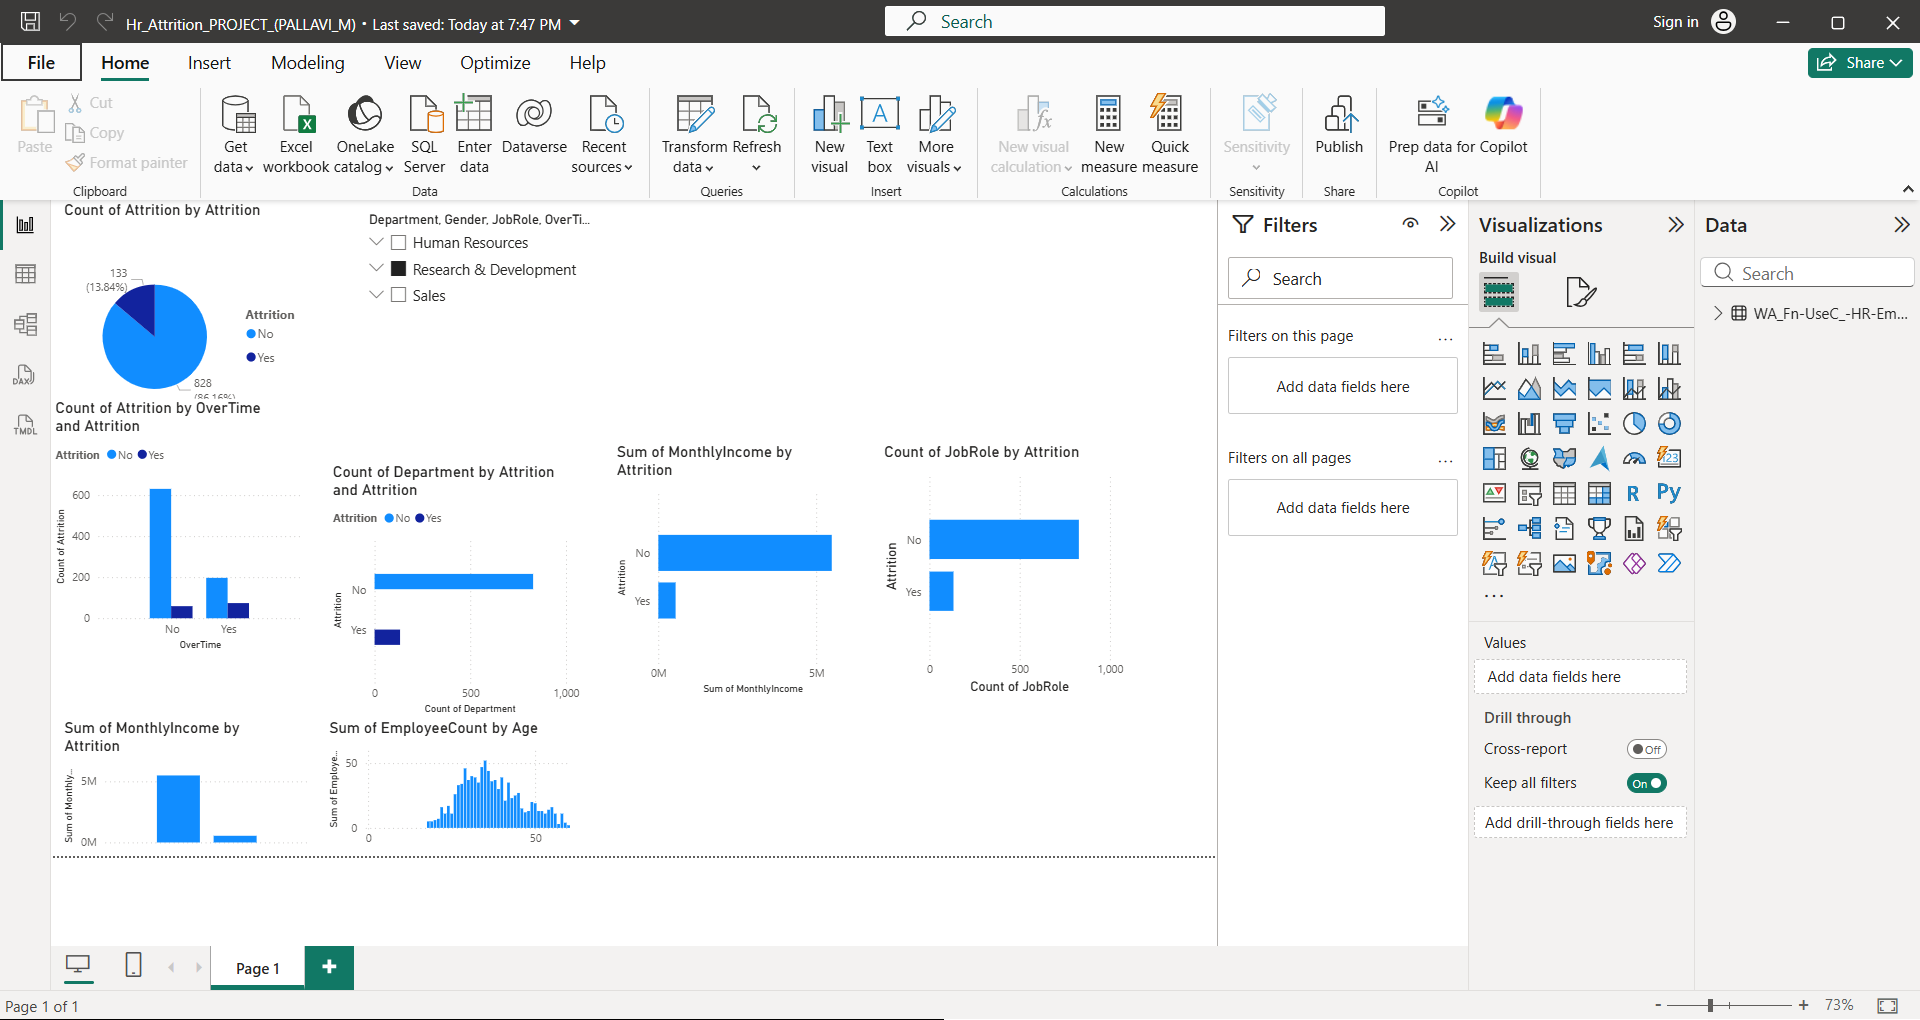

The dashboard page shown, as its layout file describes it:
{"tool":"powerbi","page":{"name":"Page 1","canvas":[1280,720],"ordinal":0},"visuals":[{"type":"pieChart","fields":{"Category":["WA_Fn-UseC_-HR-Employee-Attrition.Attrition"],"Y":["CountNonNull(WA_Fn-UseC_-HR-Employee-Attrition.Attrition)"]},"box":[10,0,280,280],"z":0},{"type":"clusteredColumnChart","fields":{"Category":["WA_Fn-UseC_-HR-Employee-Attrition.OverTime"],"Y":["CountNonNull(WA_Fn-UseC_-HR-Employee-Attrition.Attrition)"],"Series":["WA_Fn-UseC_-HR-Employee-Attrition.Attrition"]},"box":[0,218.5,281,281],"z":1000},{"type":"clusteredColumnChart","fields":{"Category":["WA_Fn-UseC_-HR-Employee-Attrition.Attrition"],"Y":["Sum(WA_Fn-UseC_-HR-Employee-Attrition.MonthlyIncome)"]},"box":[10,570,280,150],"z":2000},{"type":"slicer","fields":{"Values":["WA_Fn-UseC_-HR-Employee-Attrition.Department","WA_Fn-UseC_-HR-Employee-Attrition.Gender","WA_Fn-UseC_-HR-Employee-Attrition.JobRole","WA_Fn-UseC_-HR-Employee-Attrition.OverTime"]},"box":[335.7,8.6,280,280],"z":3000},{"type":"clusteredBarChart","fields":{"Y":["CountNonNull(WA_Fn-UseC_-HR-Employee-Attrition.Department)"],"Category":["WA_Fn-UseC_-HR-Employee-Attrition.Attrition"],"Series":["WA_Fn-UseC_-HR-Employee-Attrition.Attrition"]},"box":[304.4,288.8,281,281],"z":4000},{"type":"clusteredColumnChart","fields":{"Category":["WA_Fn-UseC_-HR-Employee-Attrition.Age"],"Y":["Sum(WA_Fn-UseC_-HR-Employee-Attrition.EmployeeCount)"]},"box":[300,570,280,150],"z":5000},{"type":"clusteredBarChart","fields":{"Category":["WA_Fn-UseC_-HR-Employee-Attrition.Attrition"],"Y":["Sum(WA_Fn-UseC_-HR-Employee-Attrition.MonthlyIncome)"]},"box":[615.7,265.7,272.9,281.4],"z":6000},{"type":"clusteredBarChart","fields":{"Y":["CountNonNull(WA_Fn-UseC_-HR-Employee-Attrition.JobRole)"],"Category":["WA_Fn-UseC_-HR-Employee-Attrition.Attrition"]},"box":[910,265.7,272.9,281.4],"z":7000}]}

Visuals, with their boxes on the page's 1280x720 design canvas (x1, y1, x2, y2). These are canvas units, not pixel positions in the 1920x1020 screenshot, which may show the page scaled, cropped or inside an application window:
pieChart - WA_Fn-UseC_-HR-Employee-Attrition.Attrition x CountNonNull(WA_Fn-UseC_-HR-Employee-Attrition.Attrition): Rect(10, 0, 290, 280)
clusteredColumnChart - WA_Fn-UseC_-HR-Employee-Attrition.OverTime x CountNonNull(WA_Fn-UseC_-HR-Employee-Attrition.Attrition): Rect(0, 218, 281, 500)
clusteredColumnChart - WA_Fn-UseC_-HR-Employee-Attrition.Attrition x Sum(WA_Fn-UseC_-HR-Employee-Attrition.MonthlyIncome): Rect(10, 570, 290, 720)
slicer - WA_Fn-UseC_-HR-Employee-Attrition.Department x WA_Fn-UseC_-HR-Employee-Attrition.Gender: Rect(336, 9, 616, 289)
clusteredBarChart - CountNonNull(WA_Fn-UseC_-HR-Employee-Attrition.Department) x WA_Fn-UseC_-HR-Employee-Attrition.Attrition: Rect(304, 289, 585, 570)
clusteredColumnChart - WA_Fn-UseC_-HR-Employee-Attrition.Age x Sum(WA_Fn-UseC_-HR-Employee-Attrition.EmployeeCount): Rect(300, 570, 580, 720)
clusteredBarChart - WA_Fn-UseC_-HR-Employee-Attrition.Attrition x Sum(WA_Fn-UseC_-HR-Employee-Attrition.MonthlyIncome): Rect(616, 266, 889, 547)
clusteredBarChart - CountNonNull(WA_Fn-UseC_-HR-Employee-Attrition.JobRole) x WA_Fn-UseC_-HR-Employee-Attrition.Attrition: Rect(910, 266, 1183, 547)
